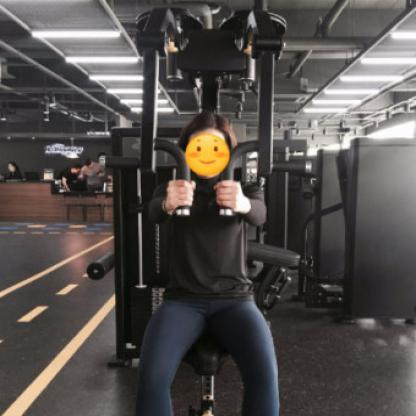chest fly machine: (78, 0, 318, 416)
